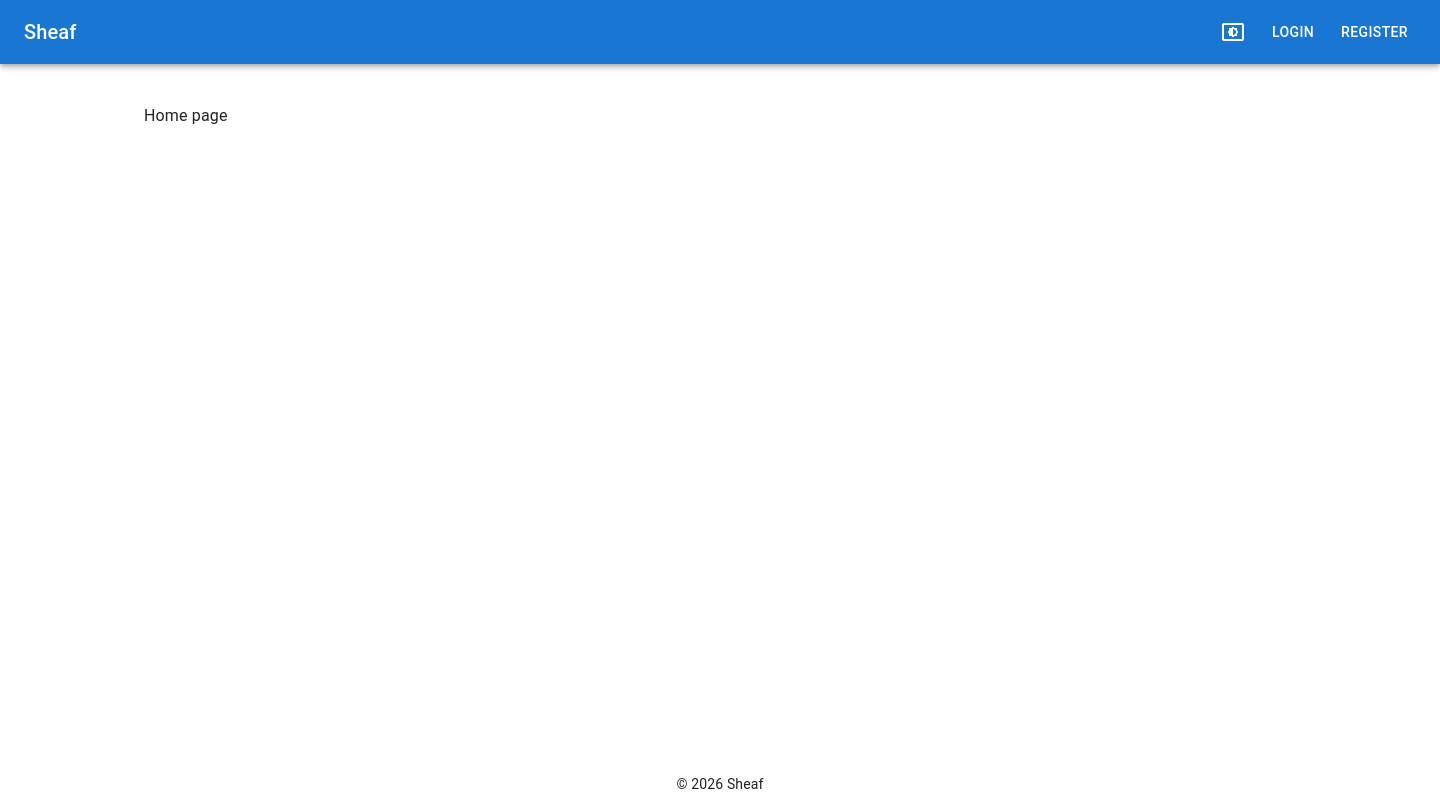
Test: Layout › Layout_SignedOutFollowsAuthLinks_NavigatesBetweenRegisterAndLogin
Click the link "Register".
click(1374, 32)  # box x1=1341 y1=24 x2=1408 y2=40
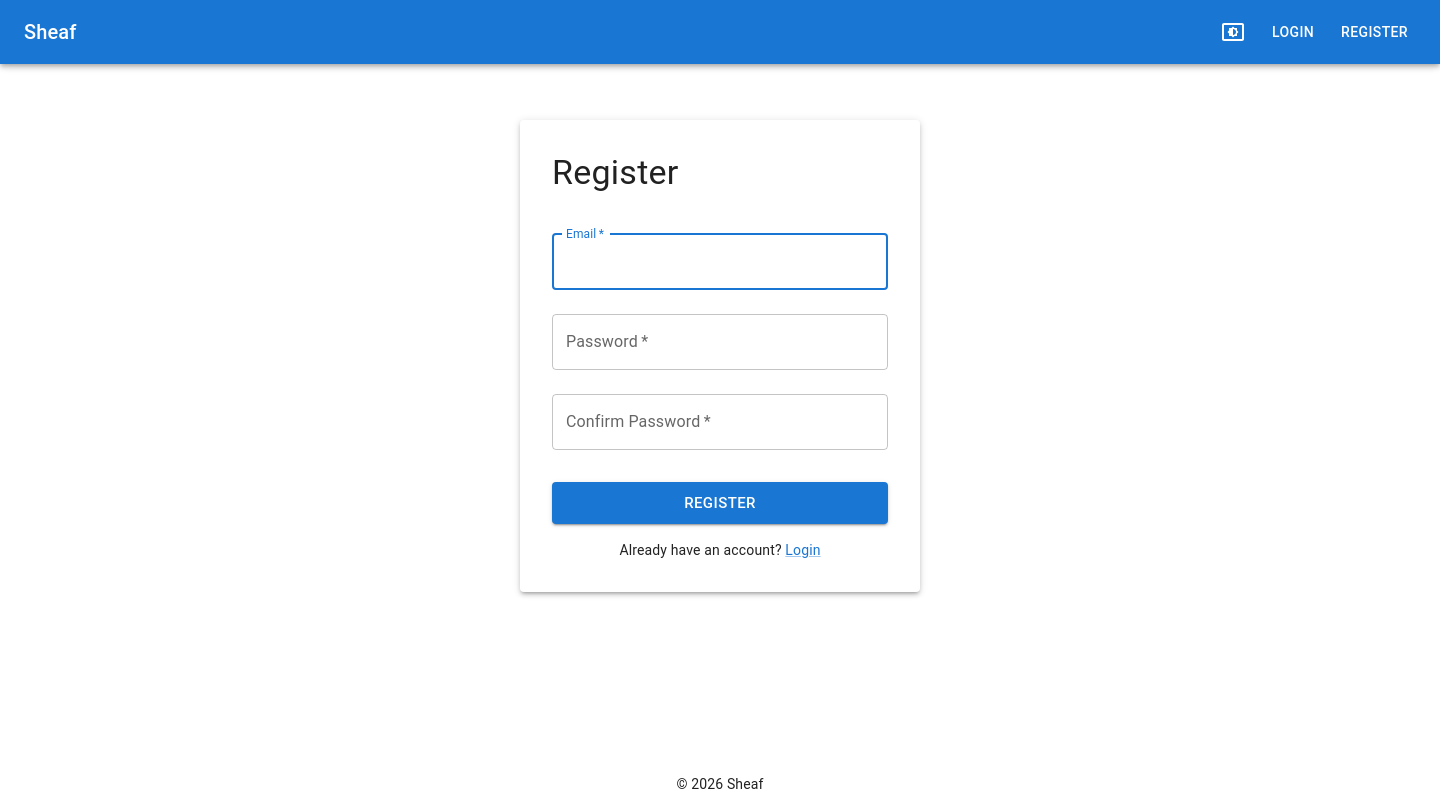
Expected: the heading "Register" is shown, x1=552 y1=152 x2=679 y2=192
Click the link "Login" next to "Already have an account?".
click(803, 550)  # box x1=785 y1=542 x2=821 y2=558
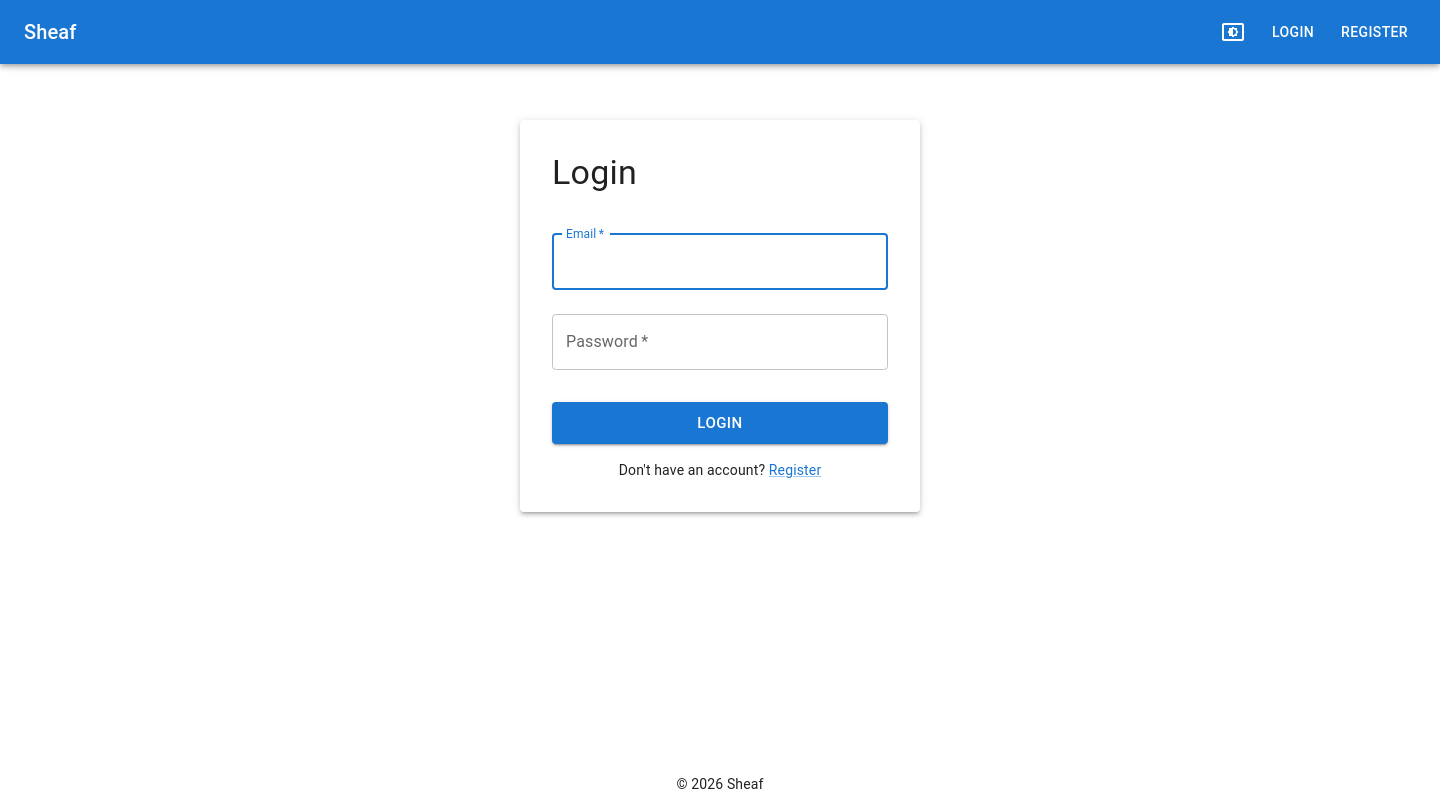
Expected: the heading "Login" is shown, x1=552 y1=152 x2=637 y2=192
